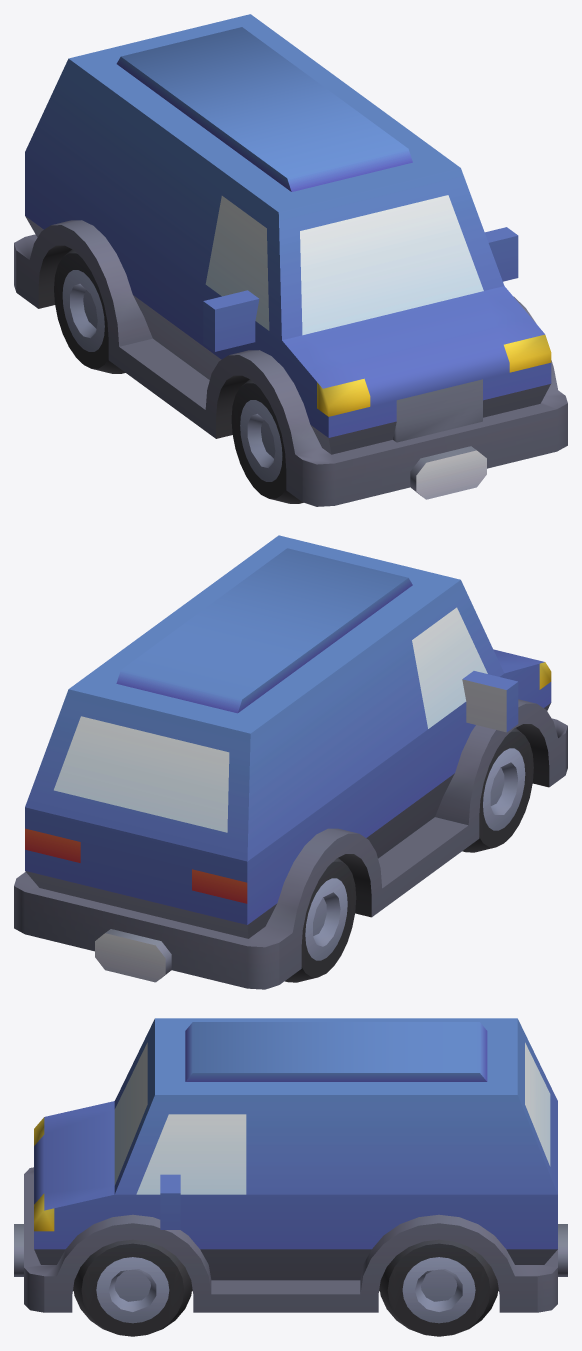
Rendered from traffic_van.glb.
The picture shows the model from 3 angles, top to bottom: view 1: azimuth 30°, elevation 25°; view 2: azimuth 150°, elevation 25°; view 3: azimuth 270°, elevation 25°; orthographic projection. The views are drawn at different scales.
Visible parts, largest first — view 1: wheel-front-right; view 2: wheel-front-right; view 3: wheel-front-right.
Boxes of the visible parts, <box> form: wheel-front-right: <box>14,14,567,506</box>; wheel-front-right: <box>14,535,567,989</box>; wheel-front-right: <box>14,1018,567,1336</box>.
Bounding box in the file's own units: 1.5 × 1.35 × 2.75.
Materials: 1 (1 with a texture image).
